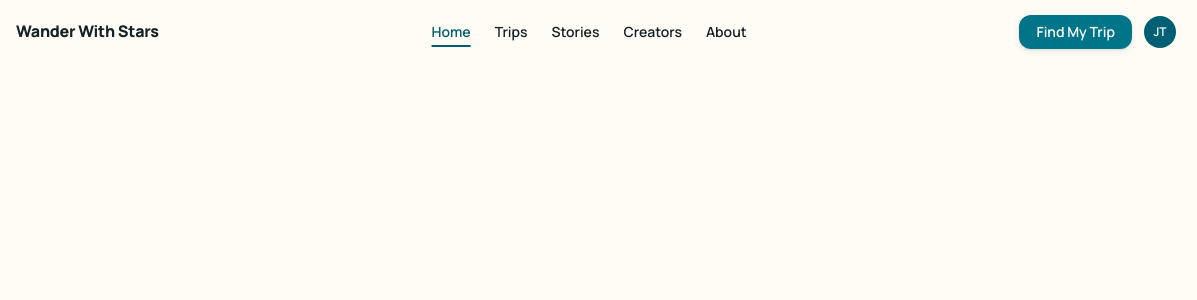
account access (Phase 4.8A) › 3. the account dropdown opens correctly, showing name and email
Step 1. Click the button with aria-label "Account menu for Jane Traveller" → click(1160, 32), box [1144,16,1176,48]
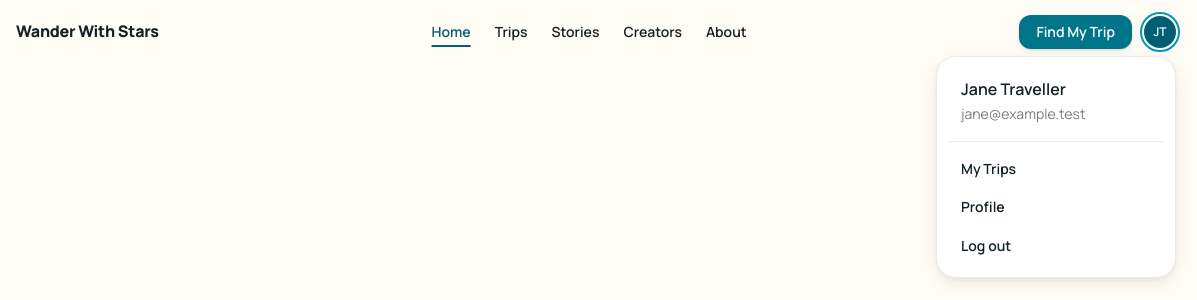
Now the menu named "Account" is shown, box [936,56,1176,278]
Now the text "Jane Traveller" is shown, box [961,78,1066,100]
Now the text "jane@example.test" is shown, box [961,104,1086,123]
